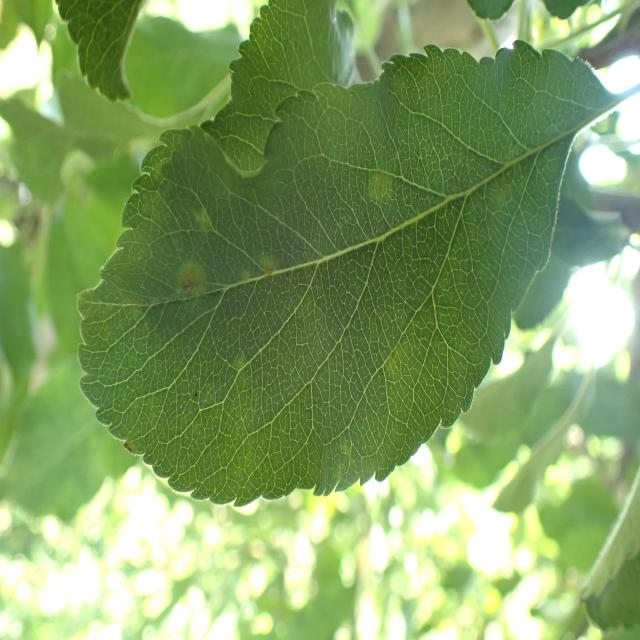scab: (123, 116, 524, 381)
